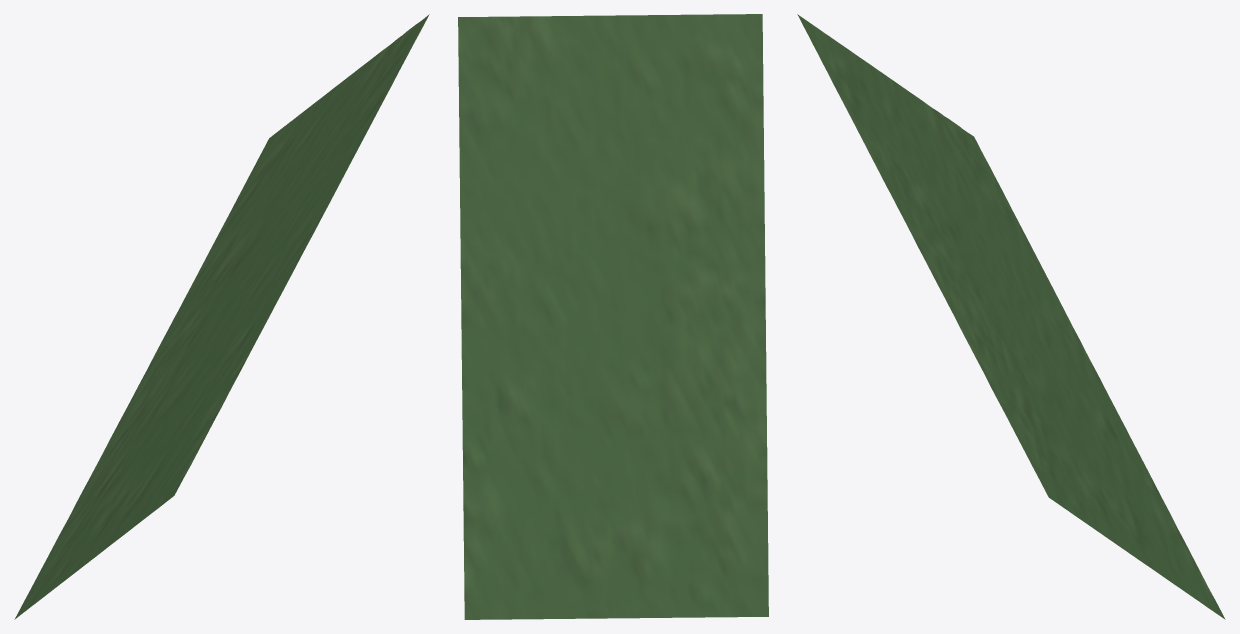
3 renders of one model, left to right at view 1: azimuth 30°, elevation 25°; view 2: azimuth 150°, elevation 25°; view 3: azimuth 270°, elevation 25°, orthographic. The views are drawn at different scales.
Size of the model in its own units: 9817 by 13391 by 9484.
